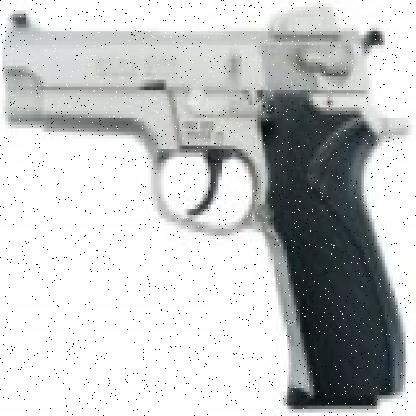pistol: (5, 10, 403, 409)
